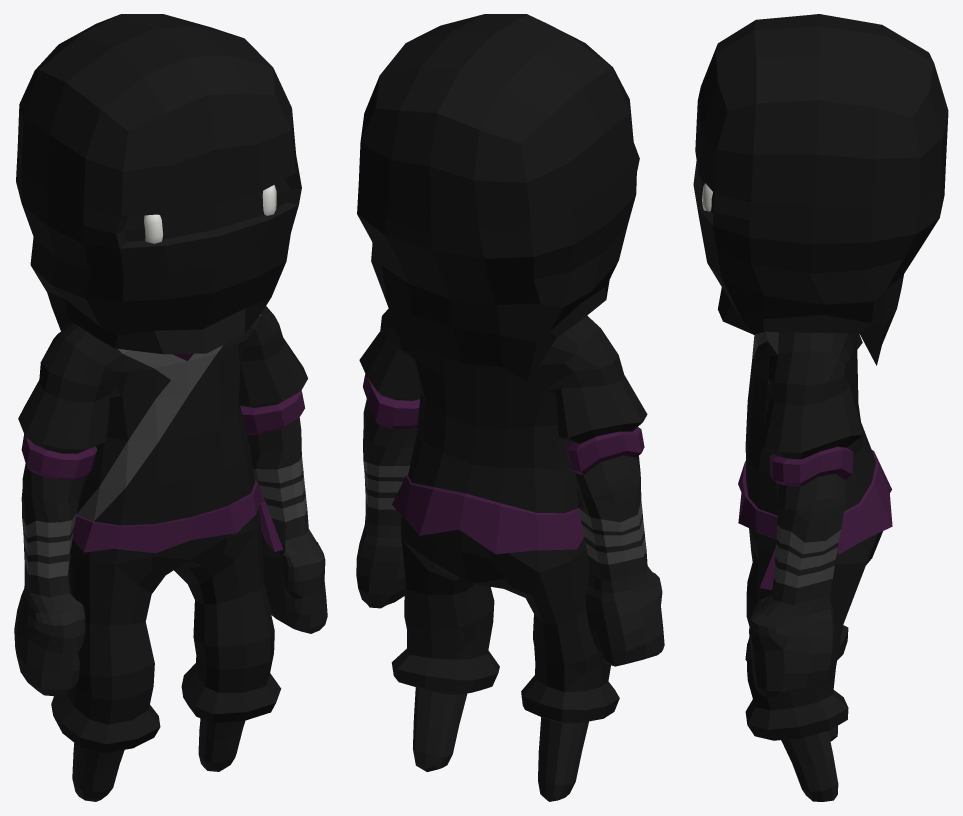
File: ninja-male-6dd7843a3f.glb
The picture shows the model from 3 angles, left to right: view 1: azimuth 30°, elevation 25°; view 2: azimuth 150°, elevation 25°; view 3: azimuth 270°, elevation 25°; orthographic projection.
Visible parts, largest first — view 1: Ninja_Male.obj; view 2: Ninja_Male.obj; view 3: Ninja_Male.obj.
Part boxes in pixels (x1,y1,x2,y2): Ninja_Male.obj: (14,14,327,801); Ninja_Male.obj: (356,14,664,801); Ninja_Male.obj: (693,14,948,801).
Bounding box in the file's own units: 1.29 × 3.12 × 0.9673.
